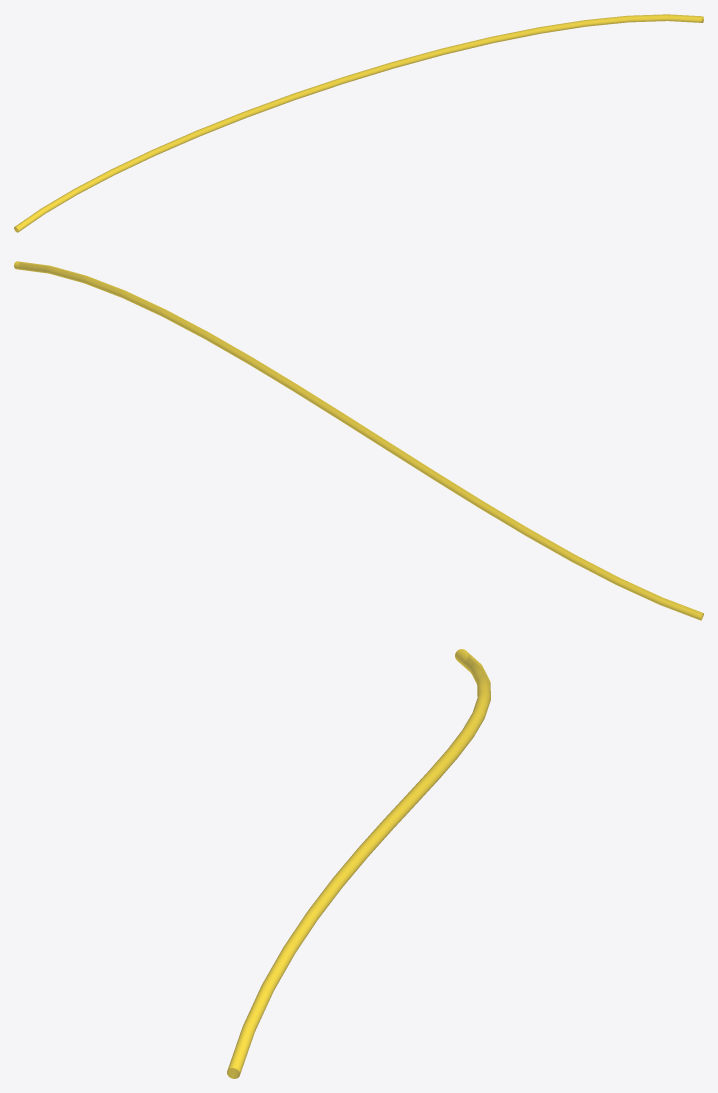
The model's file is Event_15818458_track_54.fbx.
The picture shows the model from 3 angles, top to bottom: view 1: azimuth 30°, elevation 25°; view 2: azimuth 150°, elevation 25°; view 3: azimuth 270°, elevation 25°; orthographic projection. The views are drawn at different scales.
Parts seen in each view (by area): view 1: Model; view 2: Model; view 3: Model.
Part boxes in pixels (left/top/right/bottom): Model: left=14, top=14, right=703, bottom=232; Model: left=14, top=261, right=703, bottom=620; Model: left=227, top=649, right=490, bottom=1078.
Size of the model in its own units: 4.32 by 0.7552 by 0.7827.
